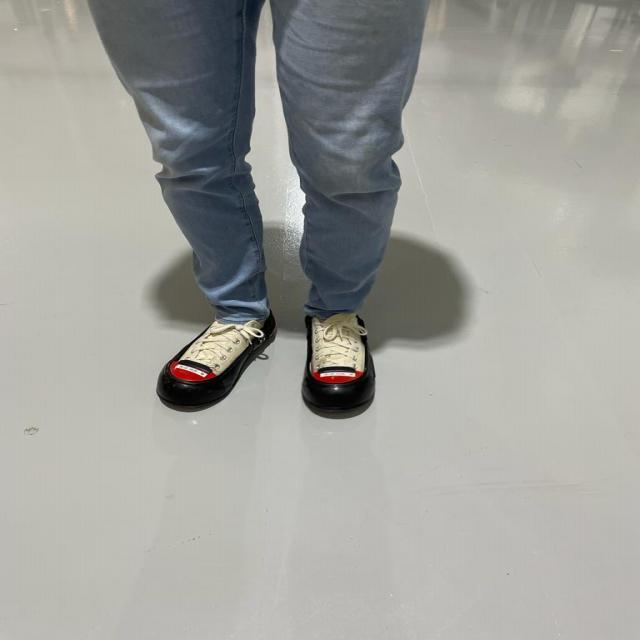shoes: (152, 302, 277, 413), (296, 310, 380, 422)
